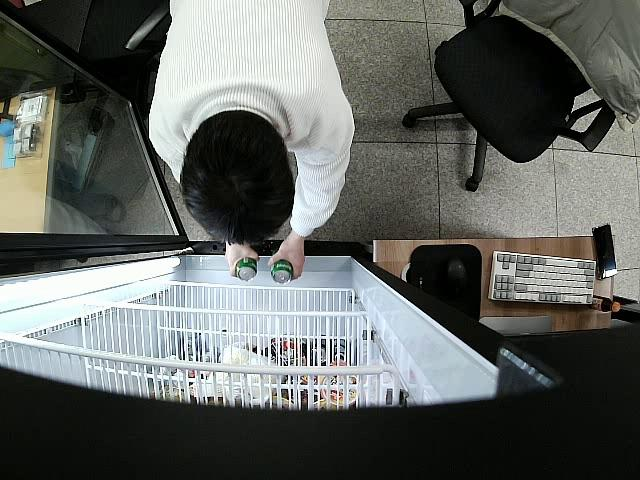00_hand: (268, 240, 304, 283), (224, 244, 261, 279)
12_chilsungCider: (234, 256, 259, 282), (271, 259, 295, 285)
